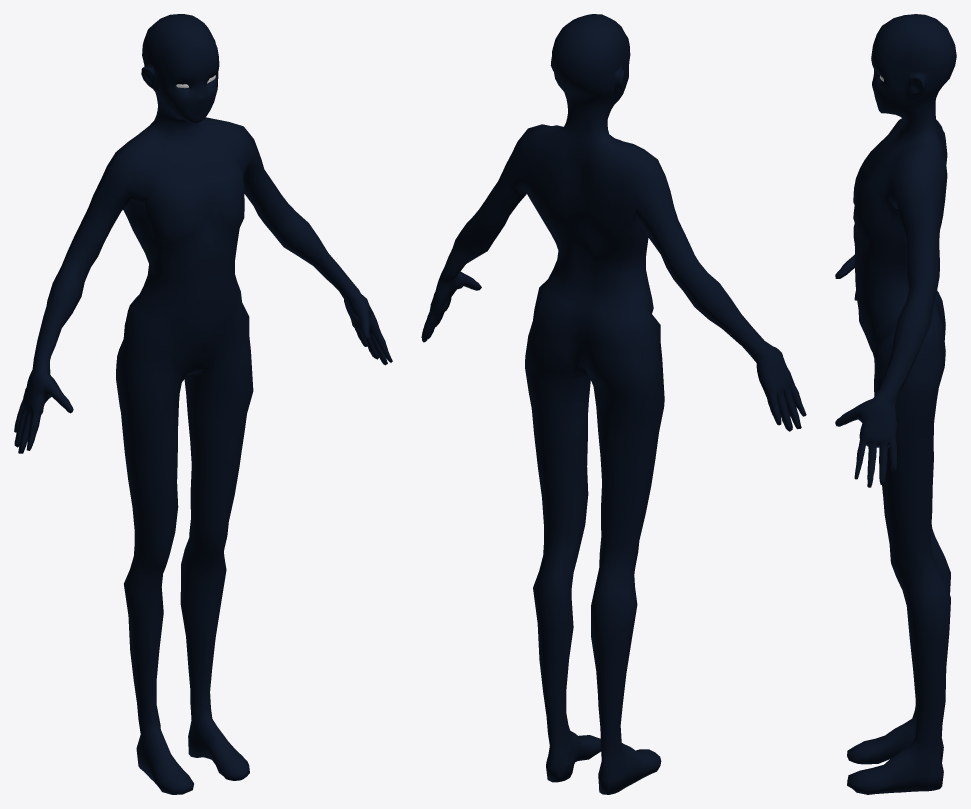
The model's file is chara_final.fbx.
3 views of the same model, side by side, from view 1: azimuth 30°, elevation 25°; view 2: azimuth 150°, elevation 25°; view 3: azimuth 270°, elevation 25° (orthographic).
Parts seen in each view (by area): view 1: Solar_chara_v4; view 2: Solar_chara_v4; view 3: Solar_chara_v4.
Boxes of the visible parts, box(x1,y1,x2,y2) form: Solar_chara_v4: box(14, 14, 392, 794); Solar_chara_v4: box(421, 14, 806, 794); Solar_chara_v4: box(835, 14, 956, 794).
Size of the model in its own units: 89.57 by 173 by 25.23.
